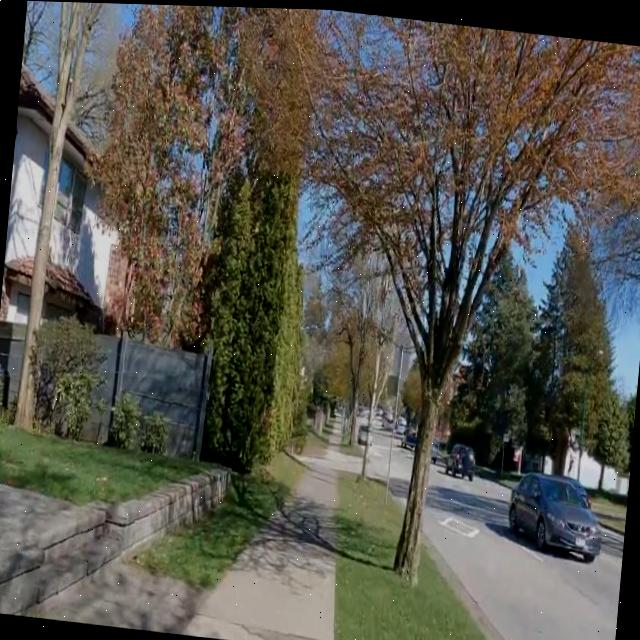Automobile: (507, 469, 598, 557), (446, 441, 474, 477), (357, 422, 368, 442)
Road: (423, 463, 624, 640), (365, 424, 412, 501), (293, 443, 361, 473)
Sidewalk: (186, 446, 347, 640)
